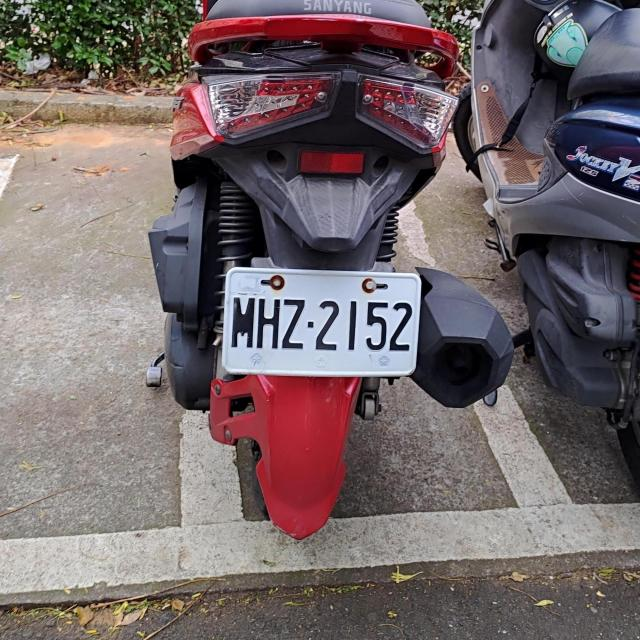W: (222, 266, 422, 378)
